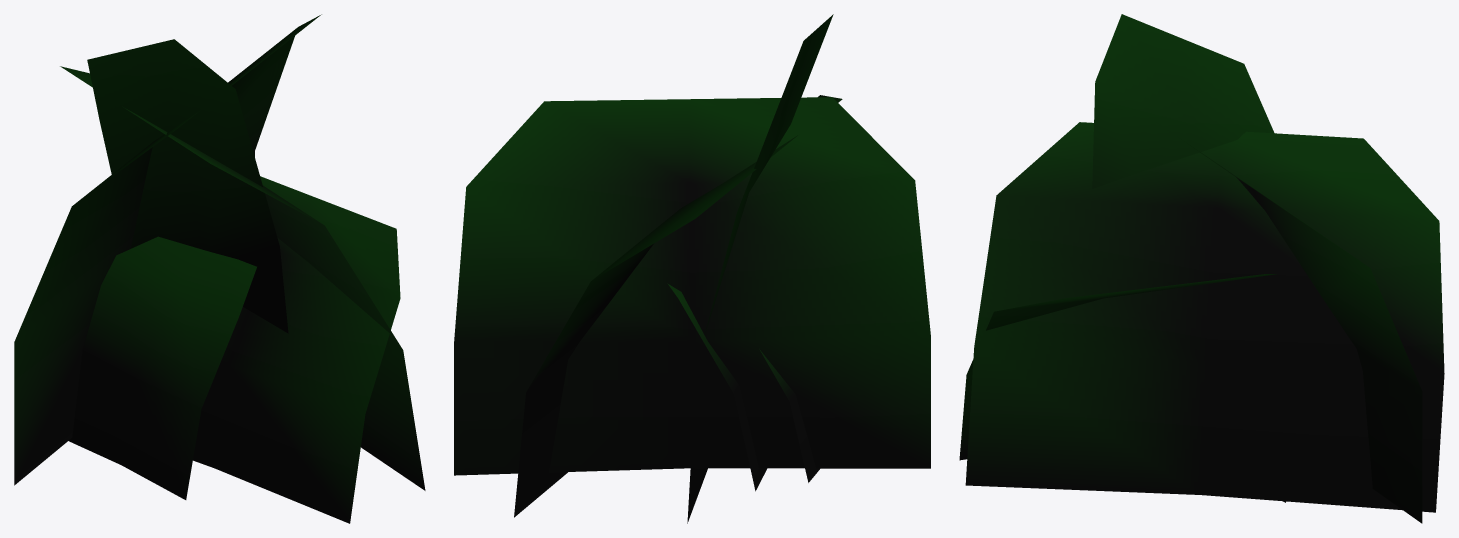
File: GenericGrasbRHE_04_afsTREE_xlod01_xlp.fbx
3 views of the same model, side by side, from view 1: azimuth 30°, elevation 25°; view 2: azimuth 150°, elevation 25°; view 3: azimuth 270°, elevation 25° (orthographic). The views are drawn at different scales.
Visible parts, largest first — view 1: GenericGrasbRHE_04_Leaf_xt02_xw05; view 2: GenericGrasbRHE_04_Leaf_xt02_xw05; view 3: GenericGrasbRHE_04_Leaf_xt02_xw05.
Boxes of the visible parts, bbox=[...] form: GenericGrasbRHE_04_Leaf_xt02_xw05: bbox=[14, 14, 425, 523]; GenericGrasbRHE_04_Leaf_xt02_xw05: bbox=[454, 14, 930, 523]; GenericGrasbRHE_04_Leaf_xt02_xw05: bbox=[959, 14, 1444, 523].
Size of the model in its own units: 0.4771 by 0.5806 by 0.5565.
